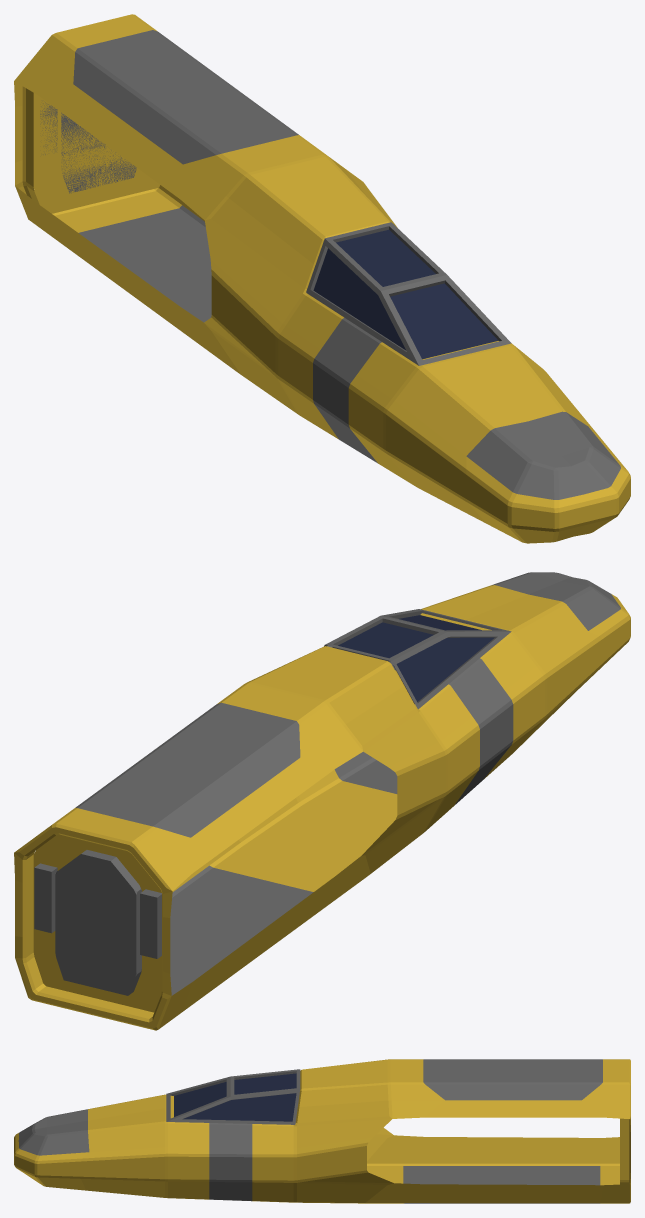
File: Lowpoly_Fuselage.fbx
3 renders of one model, top to bottom at view 1: azimuth 30°, elevation 25°; view 2: azimuth 150°, elevation 25°; view 3: azimuth 270°, elevation 25°, orthographic. The views are drawn at different scales.
Visible parts, largest first — view 1: Cube.012; view 2: Cube.012; view 3: Cube.012.
Boxes of the visible parts, box(x1,y1,x2,y2) form: Cube.012: box(14, 14, 630, 543); Cube.012: box(14, 572, 630, 1030); Cube.012: box(14, 1059, 630, 1203).
Size of the model in its own units: 208 by 195 by 960.
